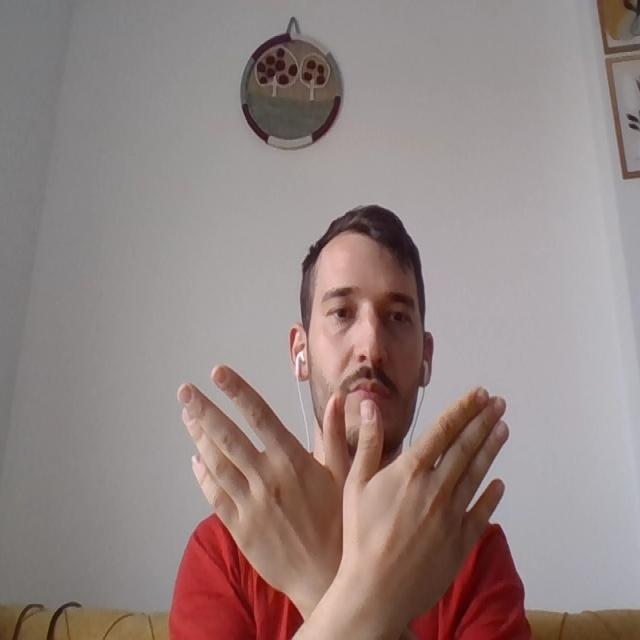thanks: (184, 369, 506, 595)
